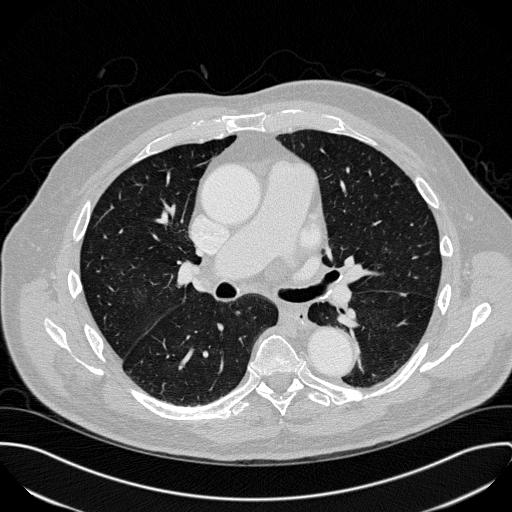nodule: (398, 290, 408, 300)
